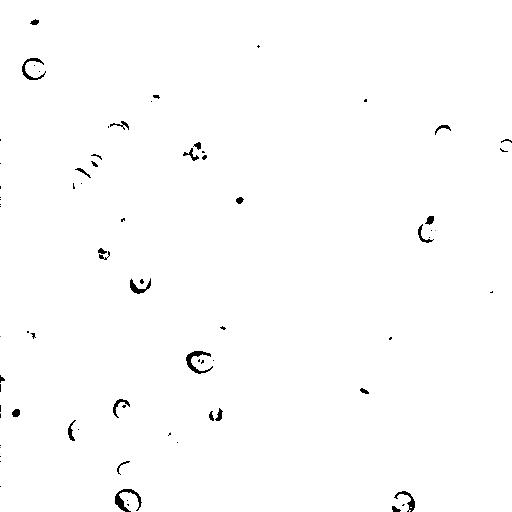micro-algae: (260, 0, 360, 98), (379, 112, 459, 190), (0, 129, 49, 198), (134, 351, 194, 406), (387, 475, 449, 512), (194, 127, 231, 167), (80, 143, 116, 177), (167, 144, 203, 177), (110, 209, 144, 242), (227, 315, 261, 347), (64, 166, 94, 196), (245, 5, 272, 35), (20, 9, 49, 36), (414, 203, 444, 229), (113, 487, 143, 512), (379, 323, 407, 349), (186, 350, 216, 374), (128, 268, 153, 296), (106, 118, 131, 145), (67, 416, 92, 443), (4, 400, 30, 425), (21, 57, 48, 81), (36, 251, 61, 276), (351, 87, 377, 111), (141, 437, 168, 460), (474, 274, 499, 298), (489, 374, 512, 400), (390, 490, 417, 512), (100, 494, 134, 511), (21, 325, 43, 349), (353, 379, 376, 401), (244, 34, 268, 55), (261, 105, 283, 127), (417, 221, 438, 244), (93, 240, 113, 263), (124, 0, 151, 17), (112, 398, 132, 420), (433, 122, 453, 143), (207, 404, 226, 425), (190, 139, 208, 160), (117, 459, 138, 476), (487, 0, 512, 14), (360, 1, 391, 10), (447, 78, 461, 94), (499, 137, 512, 154), (167, 428, 181, 442), (52, 0, 76, 7), (1, 375, 10, 391)
